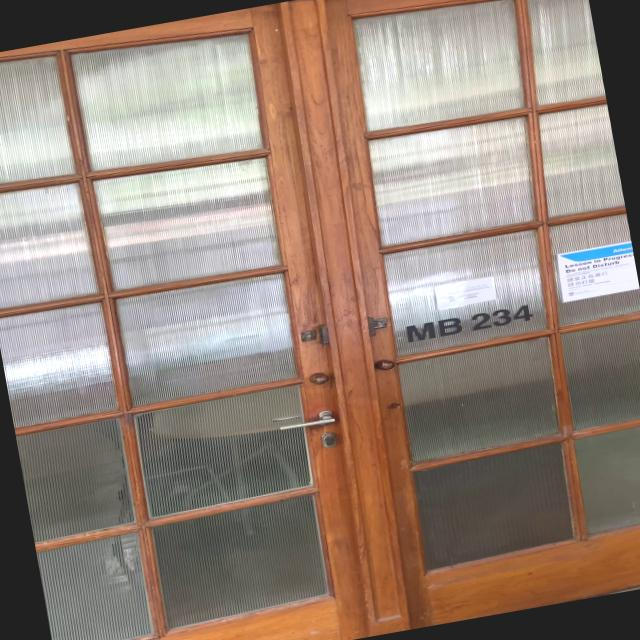room234Window: (401, 297, 542, 346)
